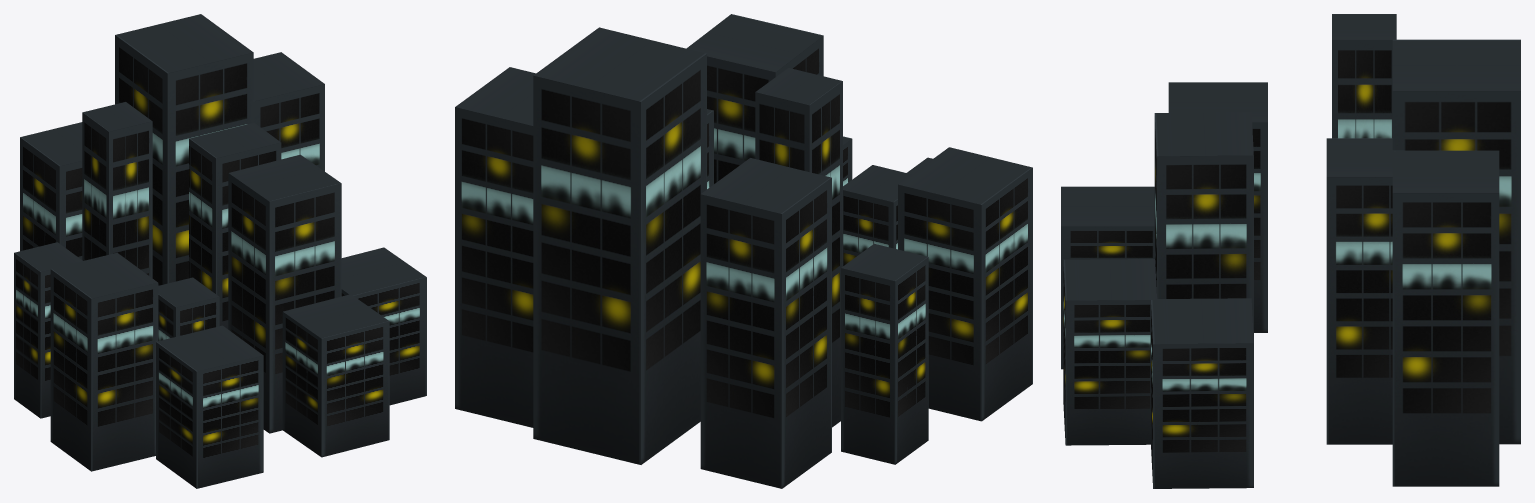
The model's file is BuildingSetmockup-9.fbx.
The picture shows the model from 3 angles, left to right: view 1: azimuth 30°, elevation 25°; view 2: azimuth 150°, elevation 25°; view 3: azimuth 270°, elevation 25°; orthographic projection. The views are drawn at different scales.
Parts seen in each view (by area): view 1: polySurface26, polySurface23, polySurface20, polySurface22, polySurface25, polySurface18, polySurface19, polySurface21, polySurface16, polySurface17, polySurface15, polySurface24; view 2: polySurface20, polySurface16, polySurface26, polySurface15, polySurface17, polySurface18, polySurface23, polySurface24; view 3: polySurface15, polySurface20, polySurface19, polySurface21, polySurface23, polySurface22, polySurface18, polySurface25, polySurface26.
Boxes of the visible parts, bbox=[...] form: polySurface26: bbox=[50, 252, 158, 471]; polySurface23: bbox=[228, 154, 341, 433]; polySurface20: bbox=[115, 14, 253, 285]; polySurface22: bbox=[282, 294, 389, 457]; polySurface25: bbox=[156, 325, 263, 488]; polySurface18: bbox=[82, 102, 152, 278]; polySurface19: bbox=[189, 123, 281, 329]; polySurface21: bbox=[341, 247, 426, 405]; polySurface16: bbox=[20, 122, 82, 259]; polySurface17: bbox=[14, 242, 82, 418]; polySurface15: bbox=[253, 52, 324, 171]; polySurface24: bbox=[158, 277, 219, 340]; polySurface20: bbox=[533, 27, 706, 464]; polySurface16: bbox=[700, 158, 831, 488]; polySurface26: bbox=[898, 147, 1032, 421]; polySurface15: bbox=[455, 67, 535, 427]; polySurface17: bbox=[841, 243, 928, 464]; polySurface18: bbox=[755, 68, 842, 427]; polySurface23: bbox=[686, 14, 823, 183]; polySurface24: bbox=[843, 165, 911, 265]; polySurface15: bbox=[1392, 150, 1499, 486]; polySurface20: bbox=[1392, 39, 1520, 444]; polySurface19: bbox=[1326, 138, 1392, 444]; polySurface21: bbox=[1151, 298, 1253, 488]; polySurface23: bbox=[1154, 112, 1253, 342]; polySurface22: bbox=[1063, 259, 1157, 445]; polySurface18: bbox=[1332, 14, 1396, 138]; polySurface25: bbox=[1061, 186, 1154, 369]; polySurface26: bbox=[1168, 82, 1267, 332].
Bounding box in the file's own units: 10.43 × 8.78 × 10.35.
1 material, 1 textured.
